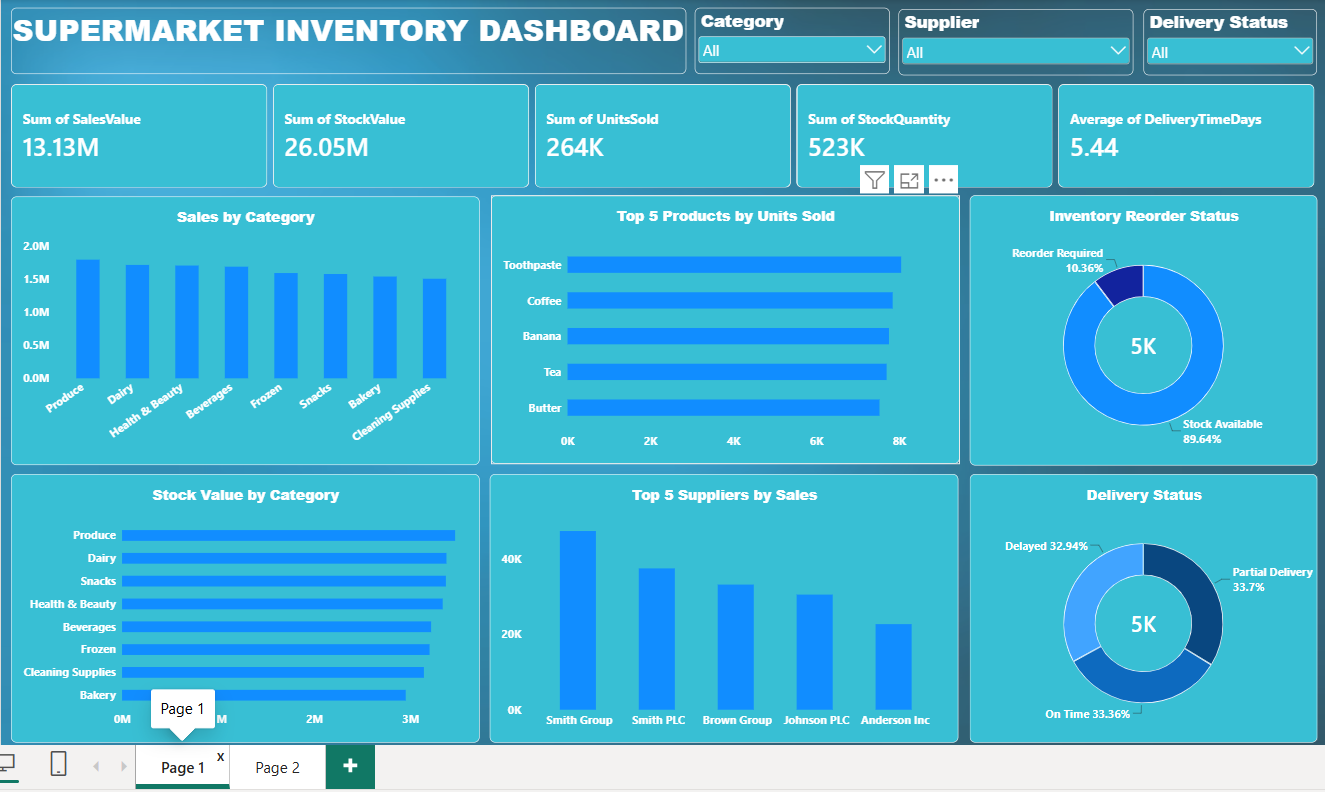

This screenshot's page, from the dashboard's own definition file:
{"tool":"powerbi","page":{"name":"Page 1","canvas":[1920,1080],"ordinal":0},"visuals":[{"type":"textbox","box":[14.5,12.7,977.2,95.9],"z":0},{"type":"slicer","fields":{"Values":["Inventory Data.Category"]},"box":[1004.4,12.7,282,96],"z":1000},{"type":"slicer","fields":{"Values":["Inventory Data.Supplier"]},"box":[1299.3,14.5,340.2,95.9],"z":2000},{"type":"slicer","fields":{"Values":["Inventory Data.DeliveryStatus"]},"box":[1654,14.5,251.5,95.9],"z":3000},{"type":"cardVisual","fields":{"Data":["Sum(Inventory Data.SalesValue)","Sum(Inventory Data.StockValue)","Sum(Inventory Data.UnitsSold)","Sum(Inventory Data.StockQuantity)","Avg(Inventory Data.DeliveryTimeDays)"]},"box":[14.5,123.1,1891.1,150.2],"z":4000},{"type":"clusteredColumnChart","title":"Sales by Category","fields":{"Category":["Inventory Data.Category"],"Y":["Sum(Inventory Data.SalesValue)"]},"box":[14.5,285.9,678,389],"z":5000},{"type":"clusteredBarChart","title":" Stock Value by Category","fields":{"Category":["Inventory Data.Category"],"Y":["Sum(Inventory Data.StockValue)"]},"box":[14.5,687.7,678,389],"z":6000},{"type":"clusteredBarChart","title":"Top 5 Products by Units Sold","fields":{"Category":["Inventory Data.ProductName"],"Y":["Sum(Inventory Data.UnitsSold)"]},"box":[709.4,284.1,678,389],"z":7000},{"type":"donutChart","title":" Delivery Status","fields":{"Category":["Inventory Data.DeliveryStatus"],"Y":["CountNonNull(Inventory Data.ProductID)"]},"box":[1402.5,687.7,503.1,389.1],"z":8000},{"type":"donutChart","title":" Inventory Reorder Status","fields":{"Category":["Inventory Data.Reorder Status"],"Y":["CountNonNull(Inventory Data.ProductID)"]},"box":[1402.5,284.1,503.1,390.9],"z":9000},{"type":"clusteredColumnChart","title":"Top 5 Suppliers by Sales","fields":{"Category":["Inventory Data.Supplier"],"Y":["Sum(Inventory Data.SalesValue)"]},"box":[707.6,687.7,678.6,389.1],"z":10000}]}

Visuals, with their boxes on the page's 1920x1080 design canvas (x1, y1, x2, y2). These are canvas units, not pixel positions in the 1325x792 screenshot, which may show the page scaled, cropped or inside an application window:
textbox: select_region(14, 13, 992, 109)
slicer - Inventory Data.Category: select_region(1004, 13, 1286, 109)
slicer - Inventory Data.Supplier: select_region(1299, 14, 1640, 110)
slicer - Inventory Data.DeliveryStatus: select_region(1654, 14, 1906, 110)
cardVisual - Sum(Inventory Data.SalesValue) x Sum(Inventory Data.StockValue): select_region(14, 123, 1906, 273)
"Sales by Category" clusteredColumnChart: select_region(14, 286, 692, 675)
" Stock Value by Category" clusteredBarChart: select_region(14, 688, 692, 1077)
"Top 5 Products by Units Sold" clusteredBarChart: select_region(709, 284, 1387, 673)
" Delivery Status" donutChart: select_region(1402, 688, 1906, 1077)
" Inventory Reorder Status" donutChart: select_region(1402, 284, 1906, 675)
"Top 5 Suppliers by Sales" clusteredColumnChart: select_region(708, 688, 1386, 1077)
